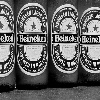beer: (19, 1, 50, 91)
